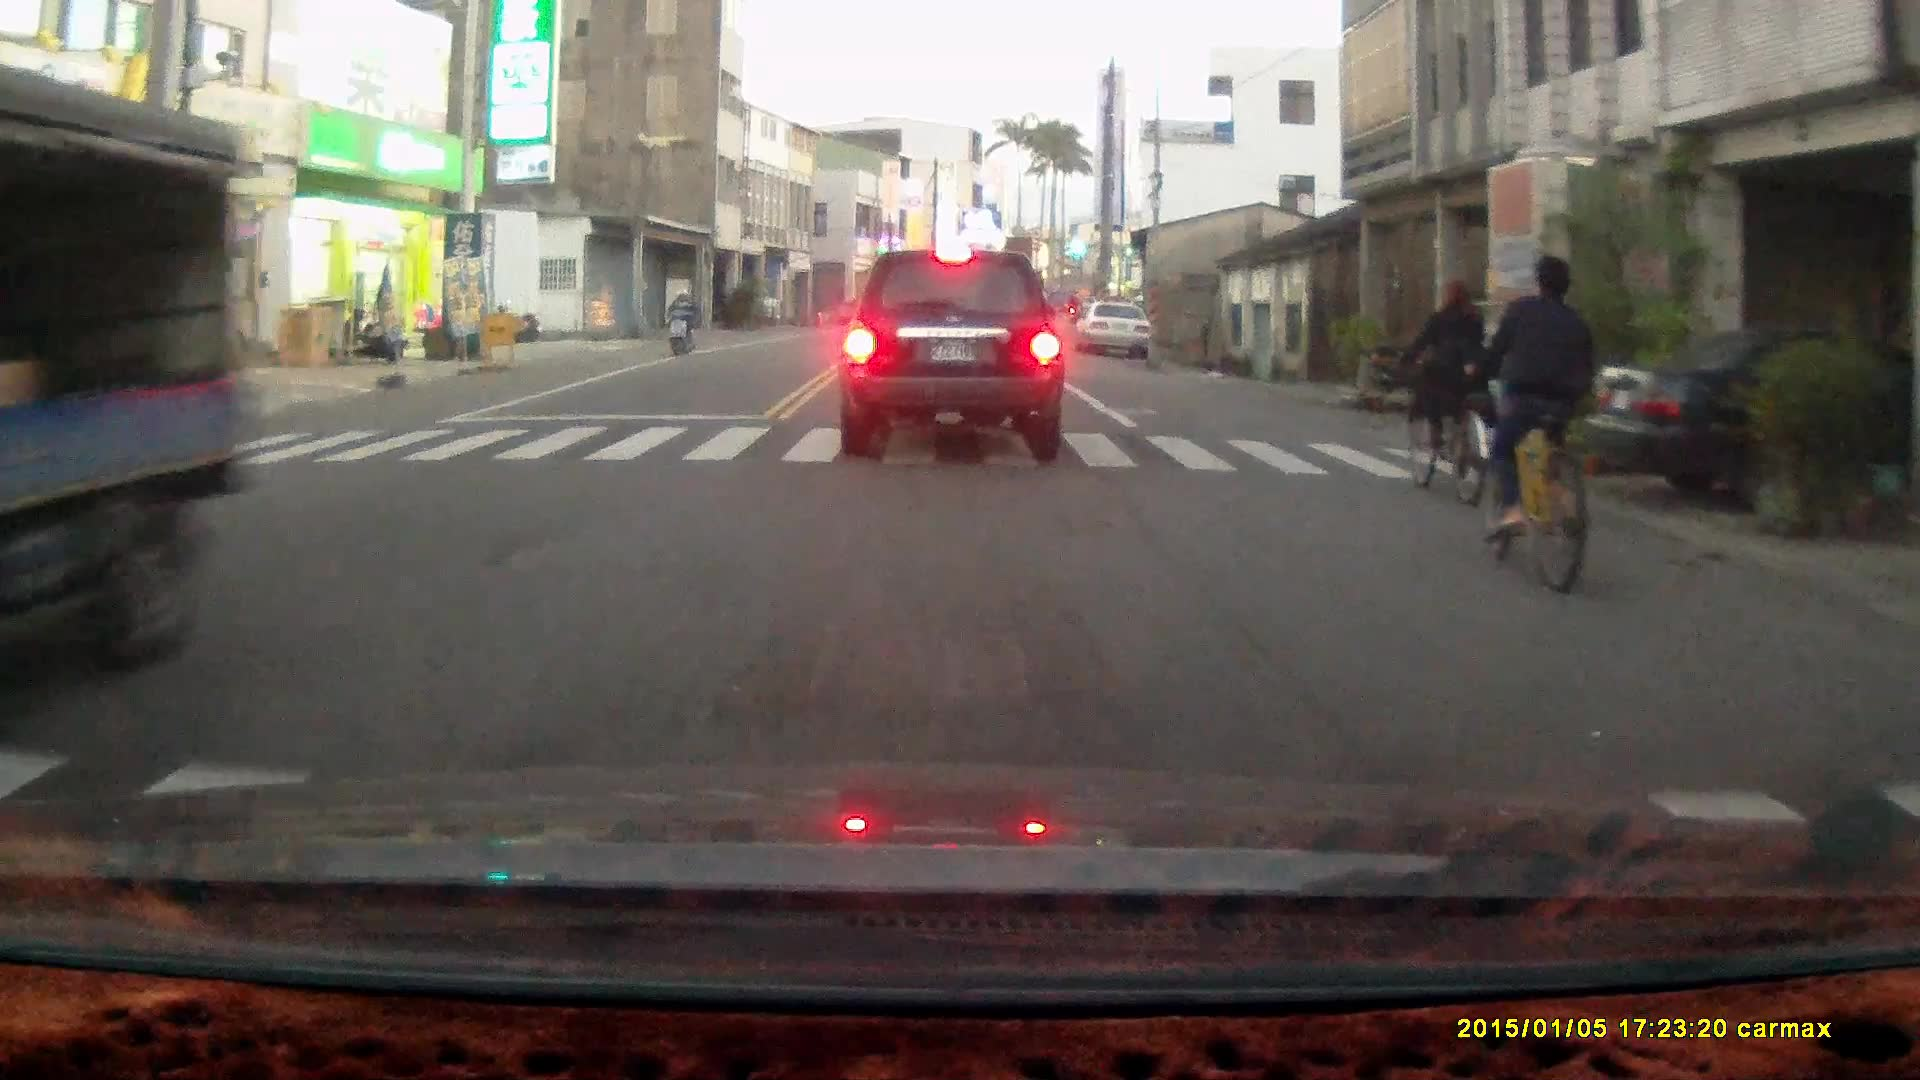rider: (1457, 252, 1592, 595), (1394, 278, 1489, 508), (663, 283, 696, 359)
vehicle: (1, 81, 246, 719), (1585, 324, 1920, 514), (833, 246, 1071, 460), (1080, 303, 1155, 362)
